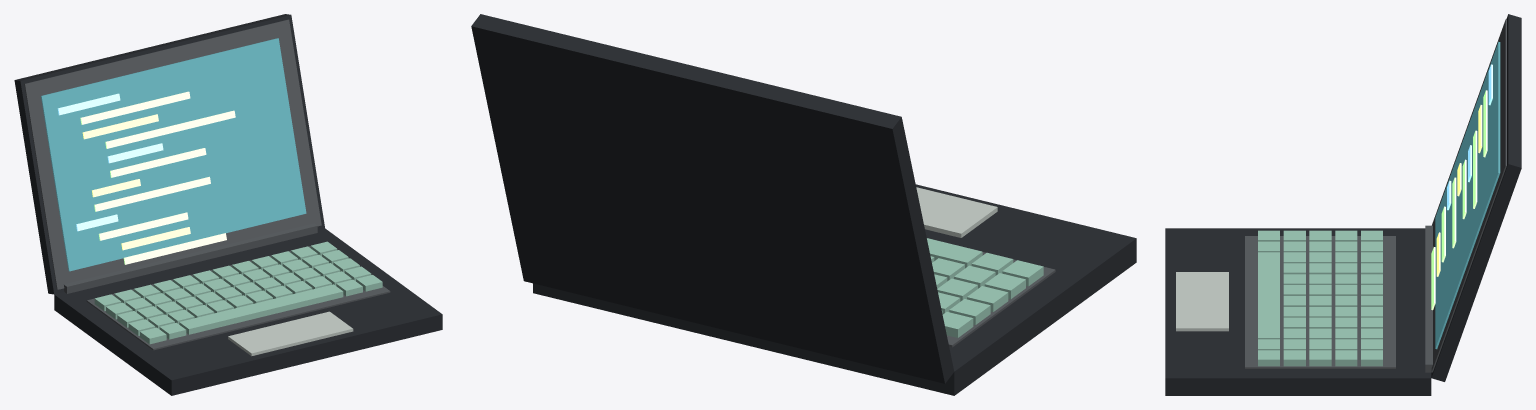
Rendered from laptop.glb.
3 views of the same model, side by side, from view 1: azimuth 30°, elevation 25°; view 2: azimuth 150°, elevation 25°; view 3: azimuth 270°, elevation 25° (orthographic). The views are drawn at different scales.
Parts seen in each view (by area): view 1: Laptop; view 2: Laptop; view 3: Laptop.
Boxes of the visible parts, left/top/right/bottom form: Laptop: left=14, top=14, right=442, bottom=395; Laptop: left=471, top=14, right=1136, bottom=395; Laptop: left=1165, top=14, right=1521, bottom=395.
Bounding box in the file's own units: 4 × 2.88 × 4.02.
